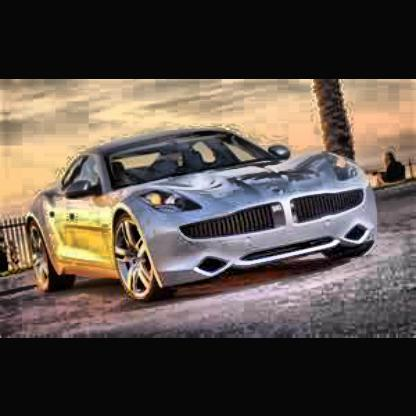Fisker Karma Sedan 2012: (27, 133, 381, 302)
